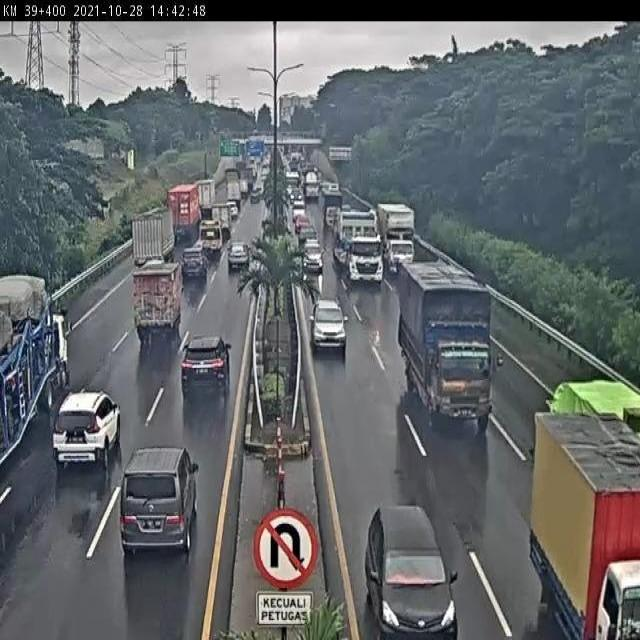Car: (363, 497, 460, 640), (54, 385, 121, 475), (177, 330, 231, 394)
Truck: (396, 263, 501, 431), (131, 263, 182, 343), (338, 207, 382, 286), (131, 205, 174, 266)
Van: (119, 440, 202, 560)
